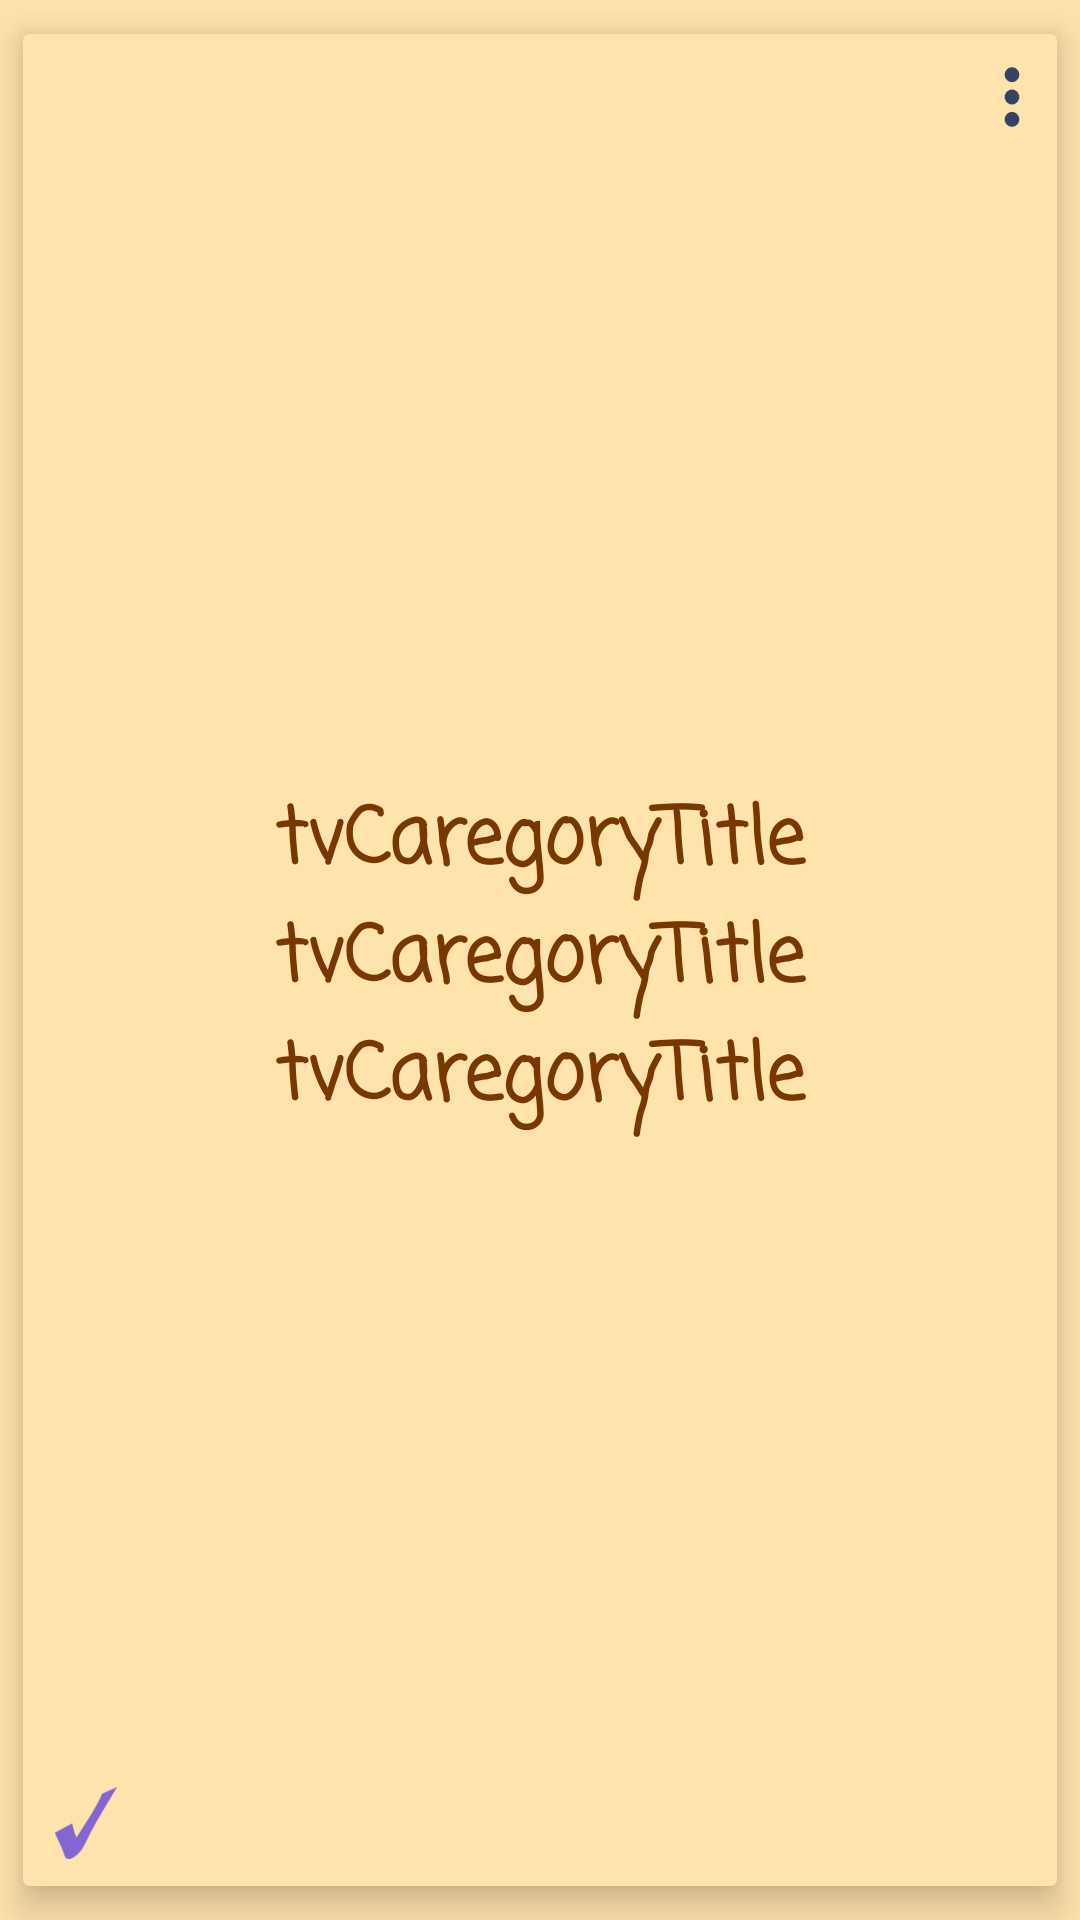

Icons on this 1080x1920 Android screen, each with its box as [left=x1, top=y1, right=x2, bottom=y2]:
popup menu: [left=1004, top=67, right=1020, bottom=127]
